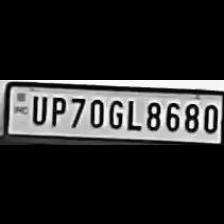0: (85, 94, 105, 128), (201, 100, 219, 132)
6: (162, 97, 180, 132)
7: (65, 93, 84, 126)
8: (180, 99, 200, 134), (142, 97, 162, 130)
G: (105, 96, 123, 128)
L: (123, 96, 141, 130)
P: (47, 93, 67, 125)
U: (26, 92, 48, 124)
